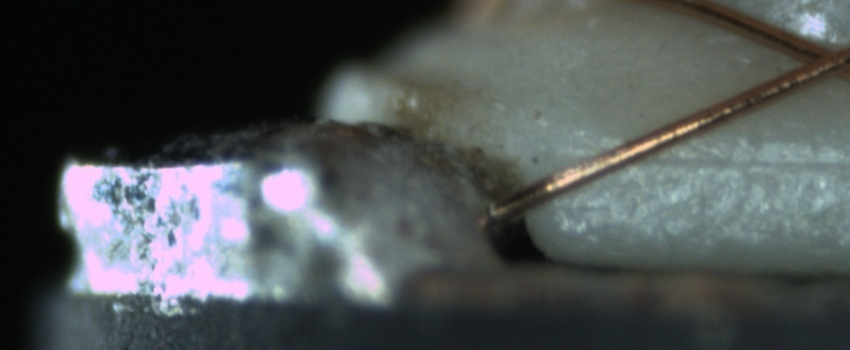CL: (775, 28, 847, 88)
DL: (579, 125, 842, 191)
